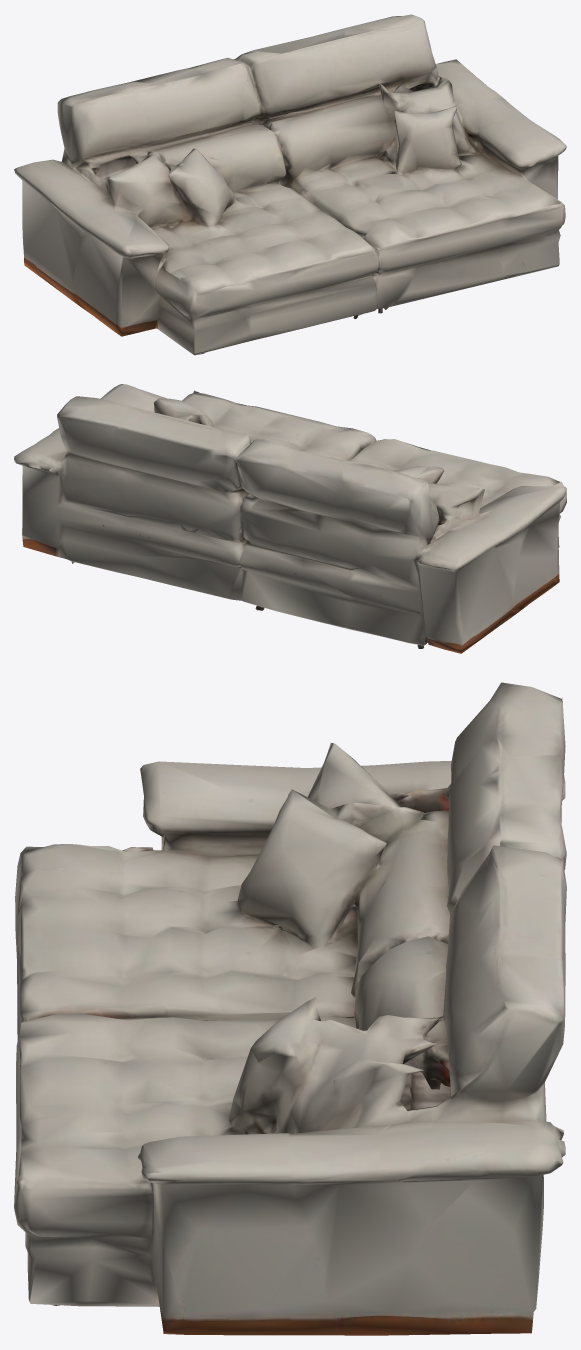
Rendered from ws_sofa_capitone_v1.glb.
The picture shows the model from 3 angles, top to bottom: view 1: azimuth 30°, elevation 25°; view 2: azimuth 150°, elevation 25°; view 3: azimuth 270°, elevation 25°; orthographic projection. The views are drawn at different scales.
Size of the model in its own units: 2 by 0.7289 by 1.14.
Materials: 1 (1 with a texture image).
